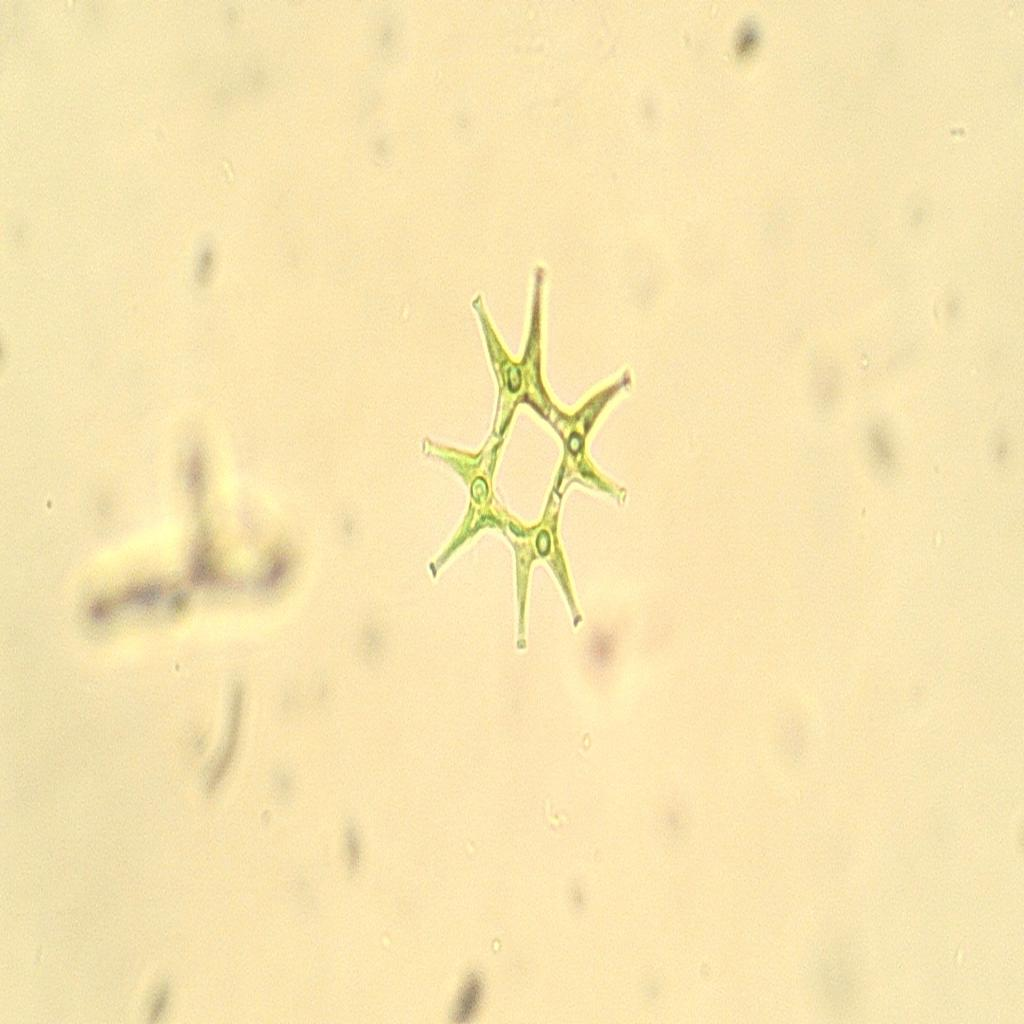Pediastrum_CO: (399, 253, 657, 667)
